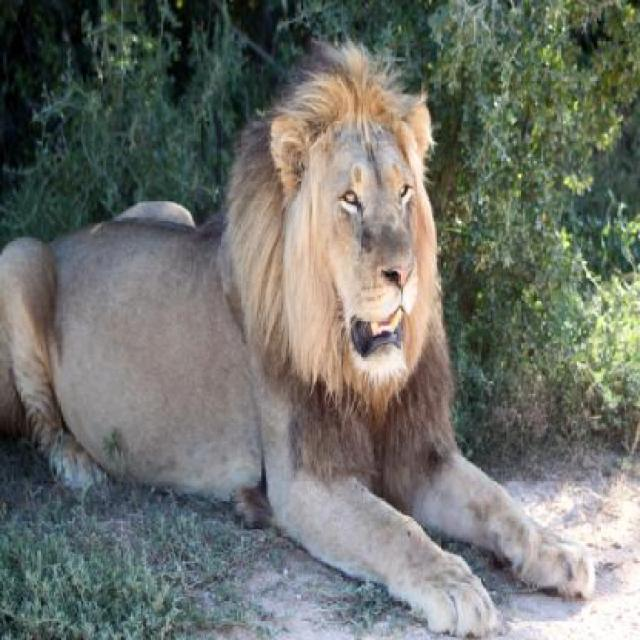Lion: (0, 43, 606, 639)
